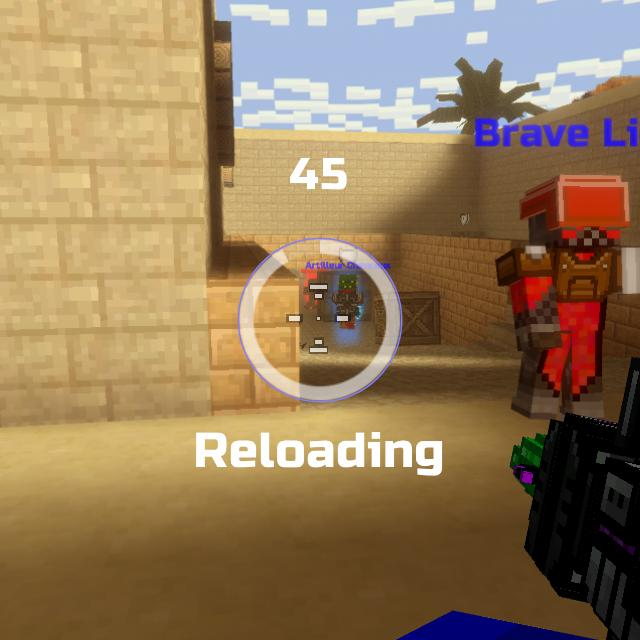Enemy: (303, 278, 317, 310)
